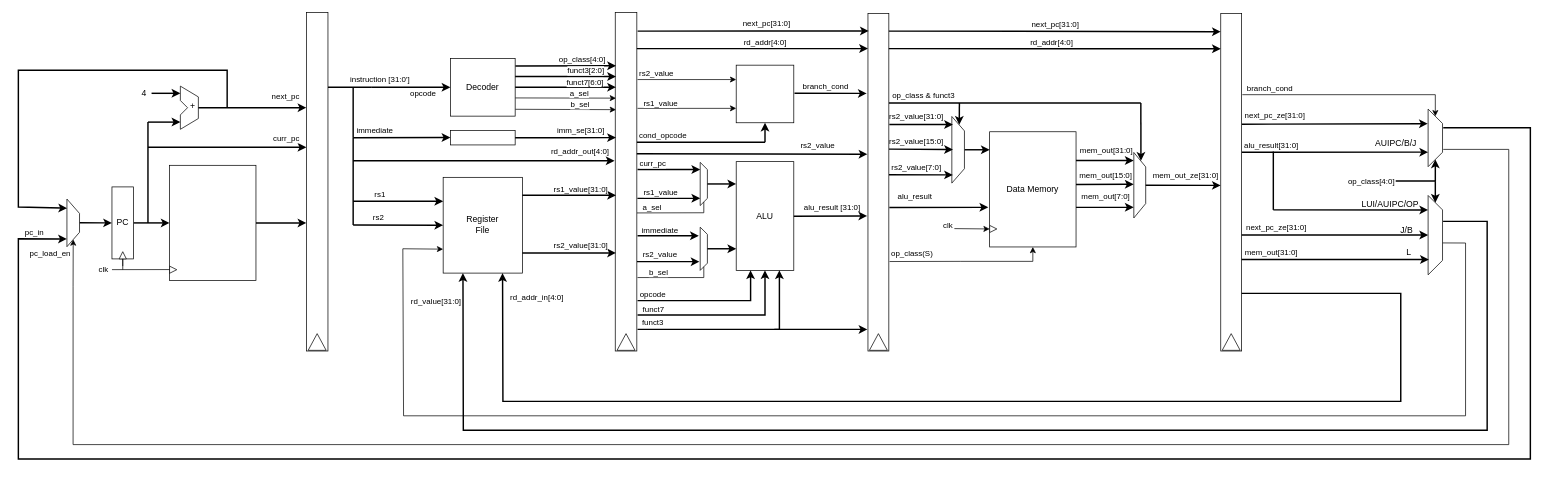
This 1549x478 diagram has some shape labels left out. Each missing label, with the centre of its shape:
"Comparator" belongs at point 764,93.
"Instruction Memory" belongs at point 212,223.
"sign extender" belongs at point 482,137.
